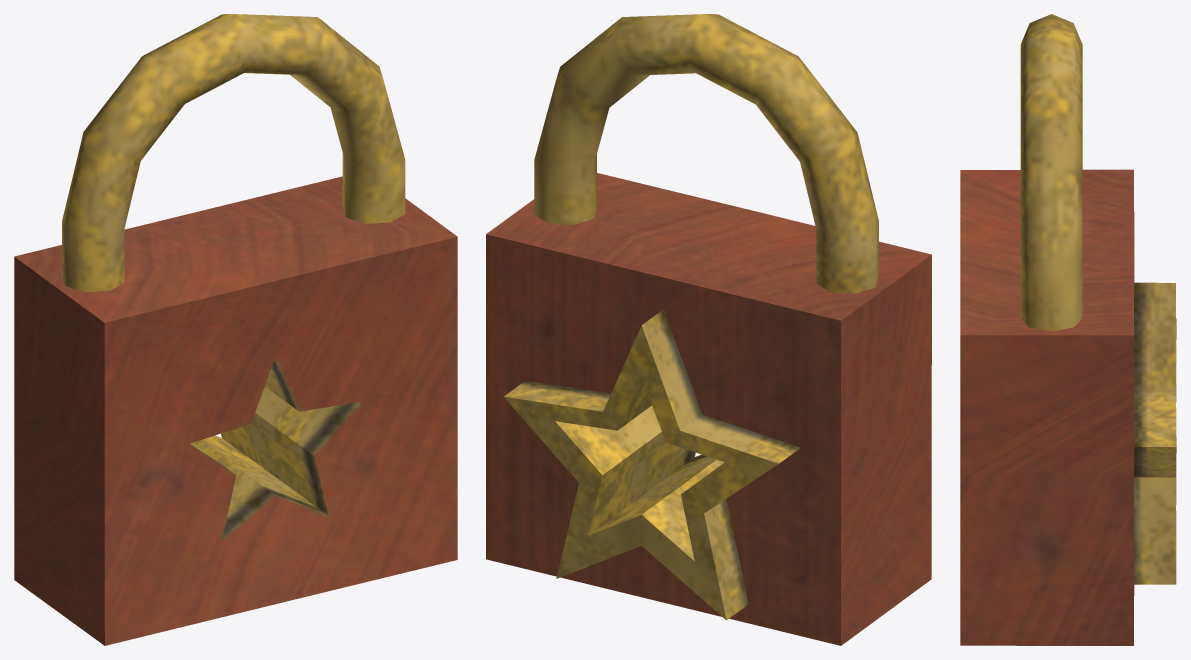
File: key.fbx
3 views of the same model, side by side, from view 1: azimuth 30°, elevation 25°; view 2: azimuth 150°, elevation 25°; view 3: azimuth 270°, elevation 25° (orthographic). The views are drawn at different scales.
Parts seen in each view (by area): view 1: lock2; view 2: lock2; view 3: lock2.
Boxes of the visible parts, <box> form: lock2: <box>14,14,457,645</box>; lock2: <box>486,14,931,645</box>; lock2: <box>960,14,1176,645</box>.
Size of the model in its own units: 3.24 by 4.86 by 1.79.
